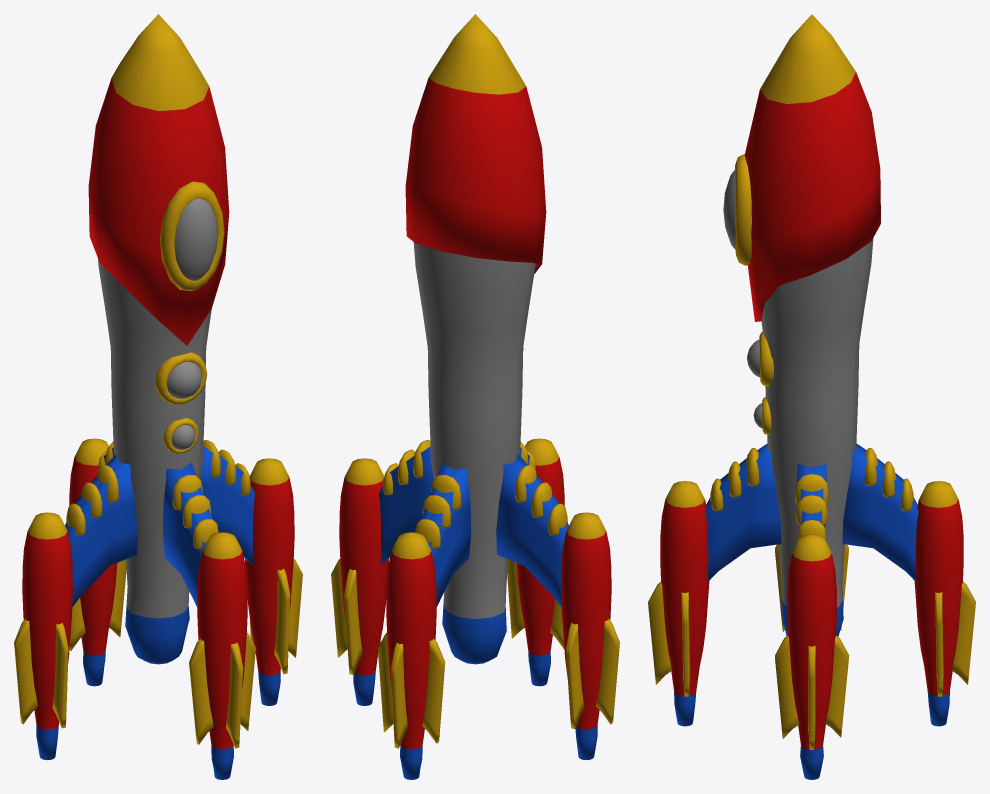
File: rocket.dae
The picture shows the model from 3 angles, left to right: view 1: azimuth 30°, elevation 25°; view 2: azimuth 150°, elevation 25°; view 3: azimuth 270°, elevation 25°; orthographic projection.
Visible parts, largest first — view 1: nose-cone; view 2: nose-cone; view 3: nose-cone.
Boxes of the visible parts, x1,y1,x2,y2 form: nose-cone: (14, 14, 302, 779); nose-cone: (331, 14, 619, 779); nose-cone: (648, 14, 975, 779).
Size of the model in its own units: 0.1412 by 0.337 by 0.1412.
